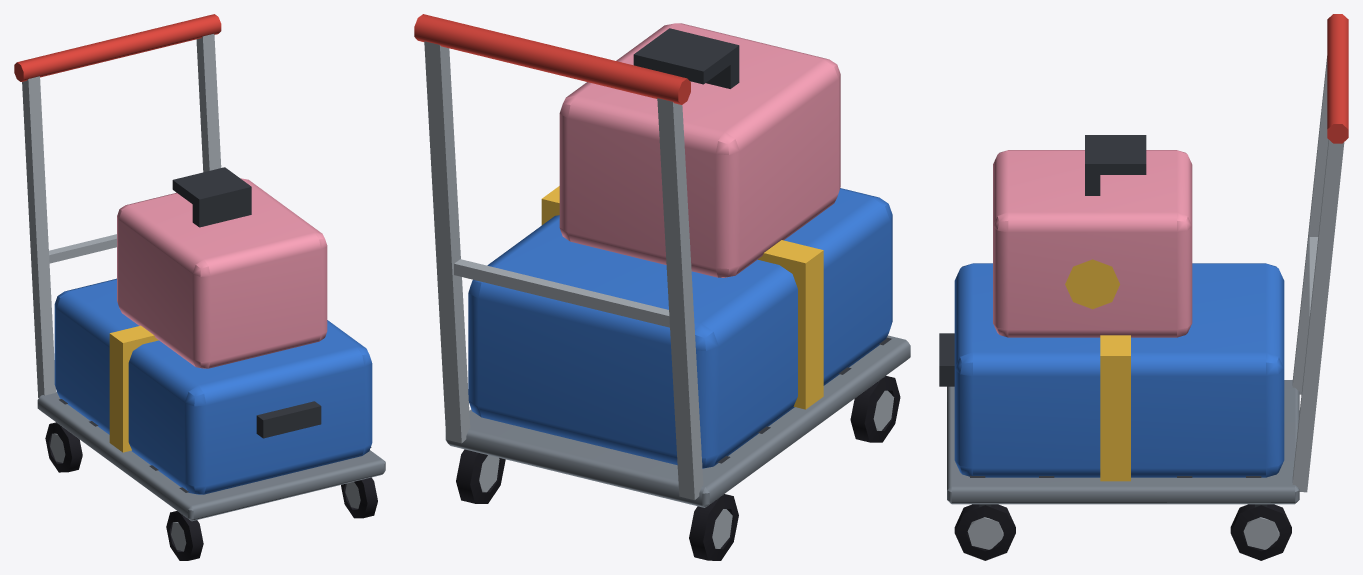
The model's file is CarroMaletas.fbx.
3 views of the same model, side by side, from view 1: azimuth 30°, elevation 25°; view 2: azimuth 150°, elevation 25°; view 3: azimuth 270°, elevation 25° (orthographic). The views are drawn at different scales.
Parts seen in each view (by area): view 1: CarroMaletas; view 2: CarroMaletas; view 3: CarroMaletas.
Boxes of the visible parts, box(x1,y1,x2,y2) form: CarroMaletas: box(14, 14, 385, 560); CarroMaletas: box(414, 14, 910, 560); CarroMaletas: box(939, 14, 1348, 560).
Size of the model in its own units: 1.7 by 3.17 by 2.67.
1 material, 1 textured.
